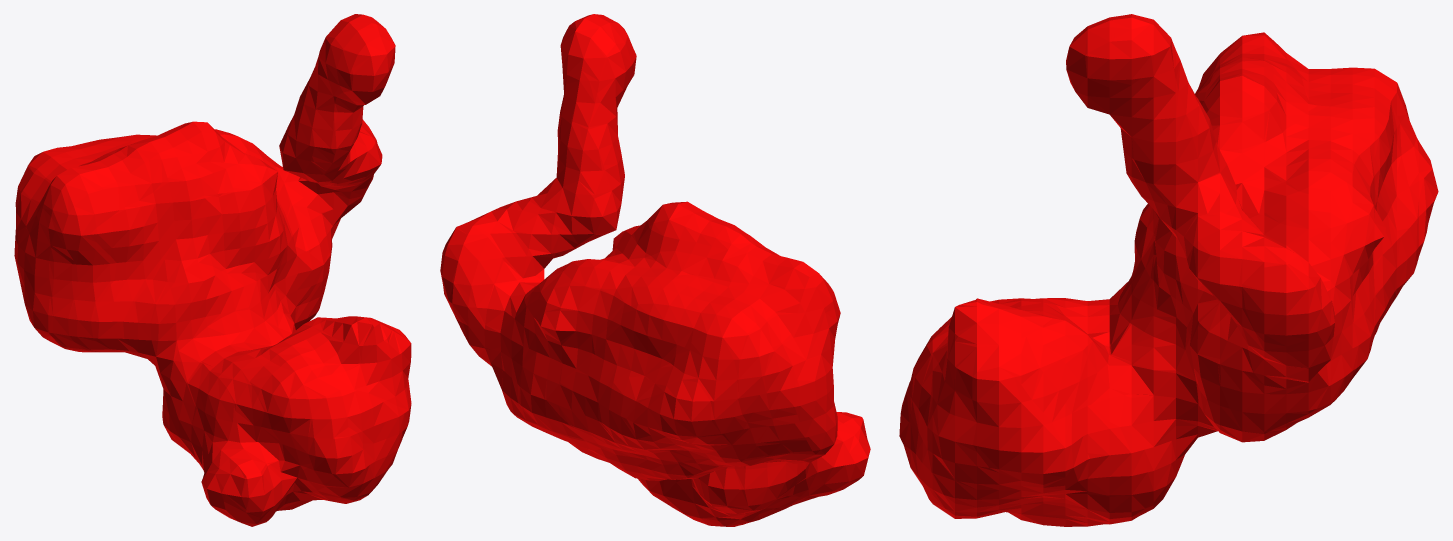
The model's file is exuR_coarse.dae.
3 views of the same model, side by side, from view 1: azimuth 30°, elevation 25°; view 2: azimuth 150°, elevation 25°; view 3: azimuth 270°, elevation 25° (orthographic). The views are drawn at different scales.
Parts seen in each view (by area): view 1: exuR; view 2: exuR; view 3: exuR.
Boxes of the visible parts, <box> form: exuR: <box>14,14,411,526</box>; exuR: <box>440,14,870,526</box>; exuR: <box>899,14,1438,526</box>.
Size of the model in its own units: 60.79 by 74.46 by 62.69.
